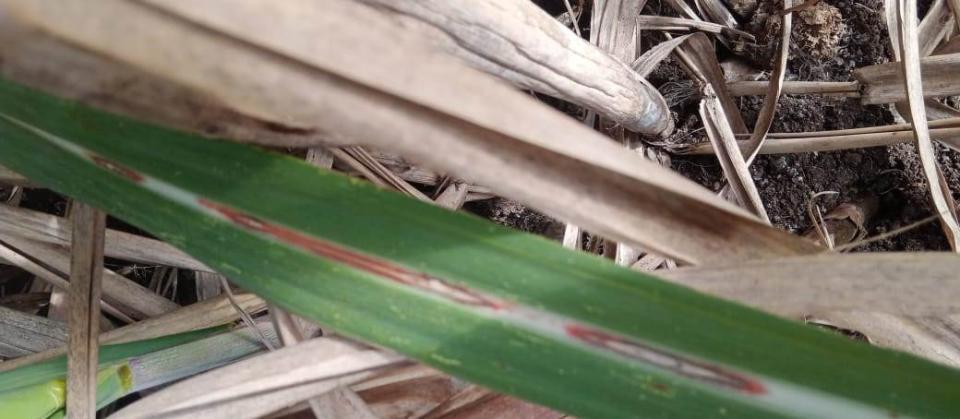RedRot: (193, 195, 509, 311), (561, 324, 770, 396), (89, 151, 147, 186)
